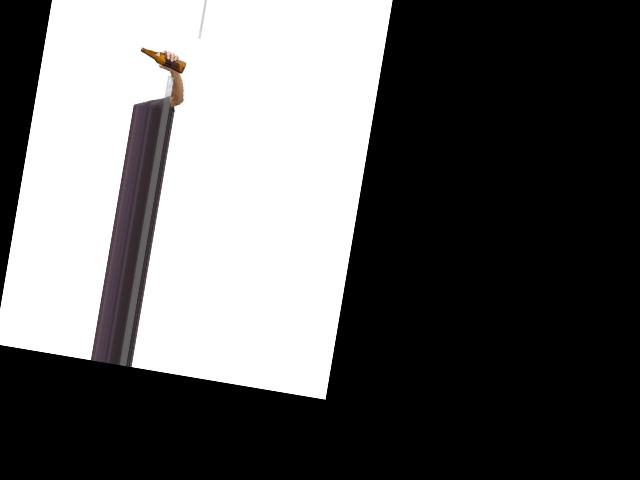beer: (138, 47, 187, 74)
